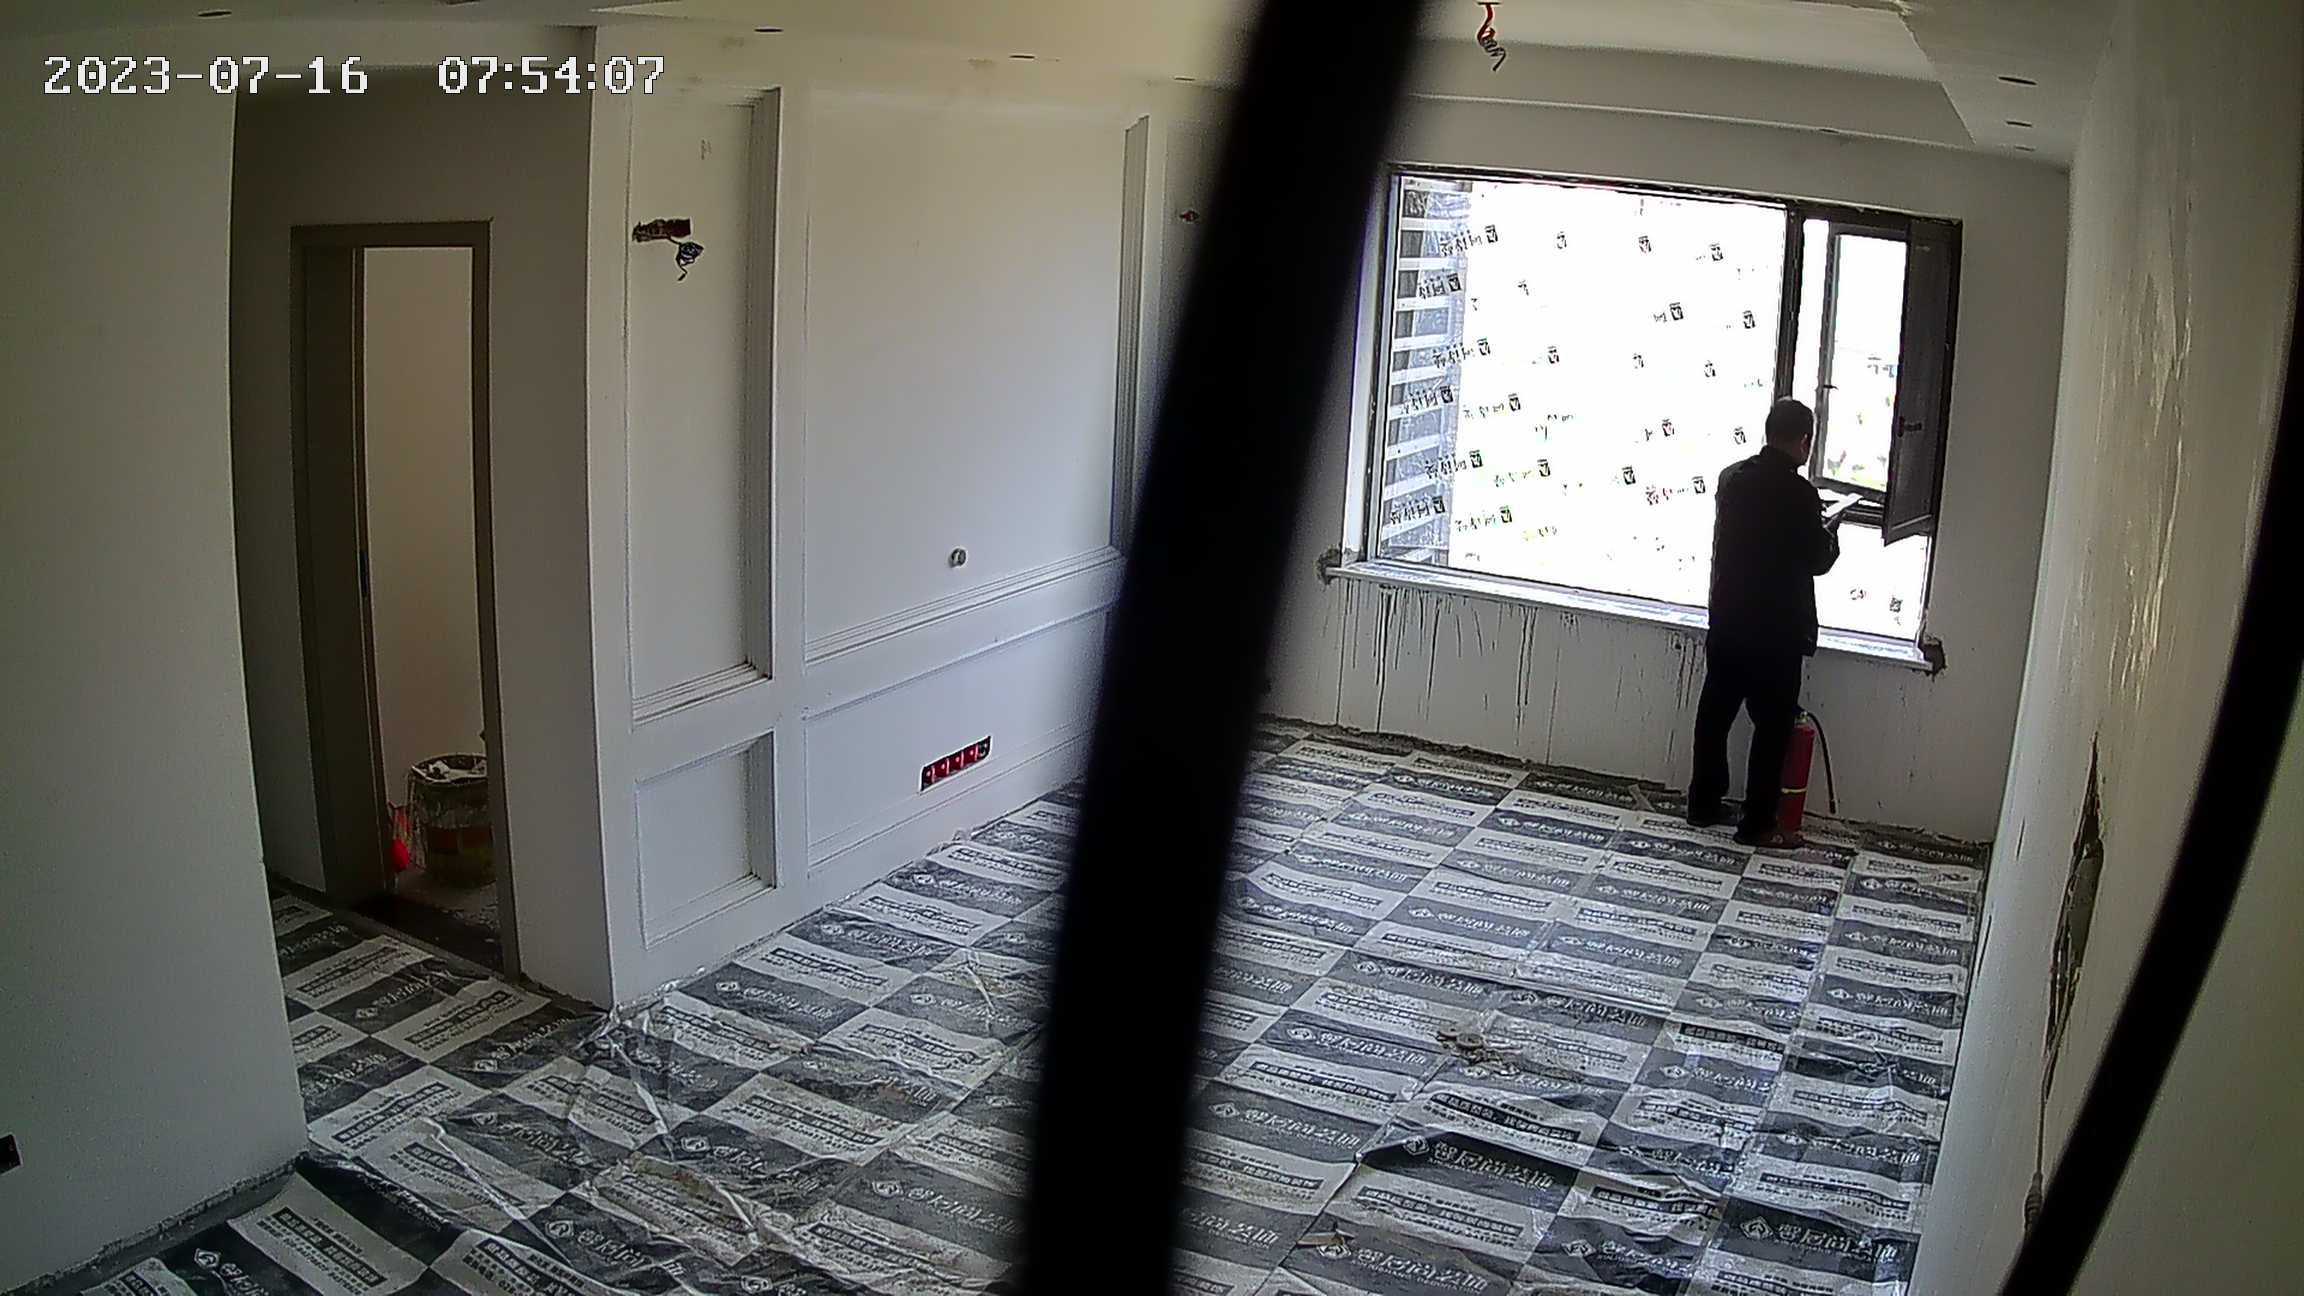people: (1674, 394, 1843, 853)
window: (1398, 169, 1934, 635)
